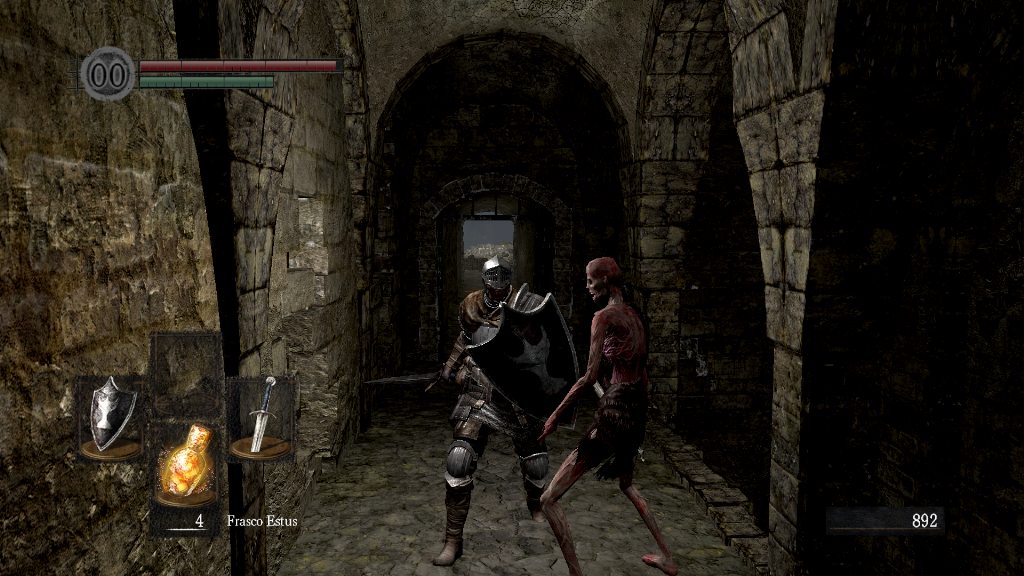health: (138, 58, 343, 71)
hollow: (534, 256, 679, 576)
humanity: (80, 45, 136, 102)
player: (361, 253, 583, 568)
souls: (825, 506, 945, 536)
stamina: (138, 74, 274, 88)
